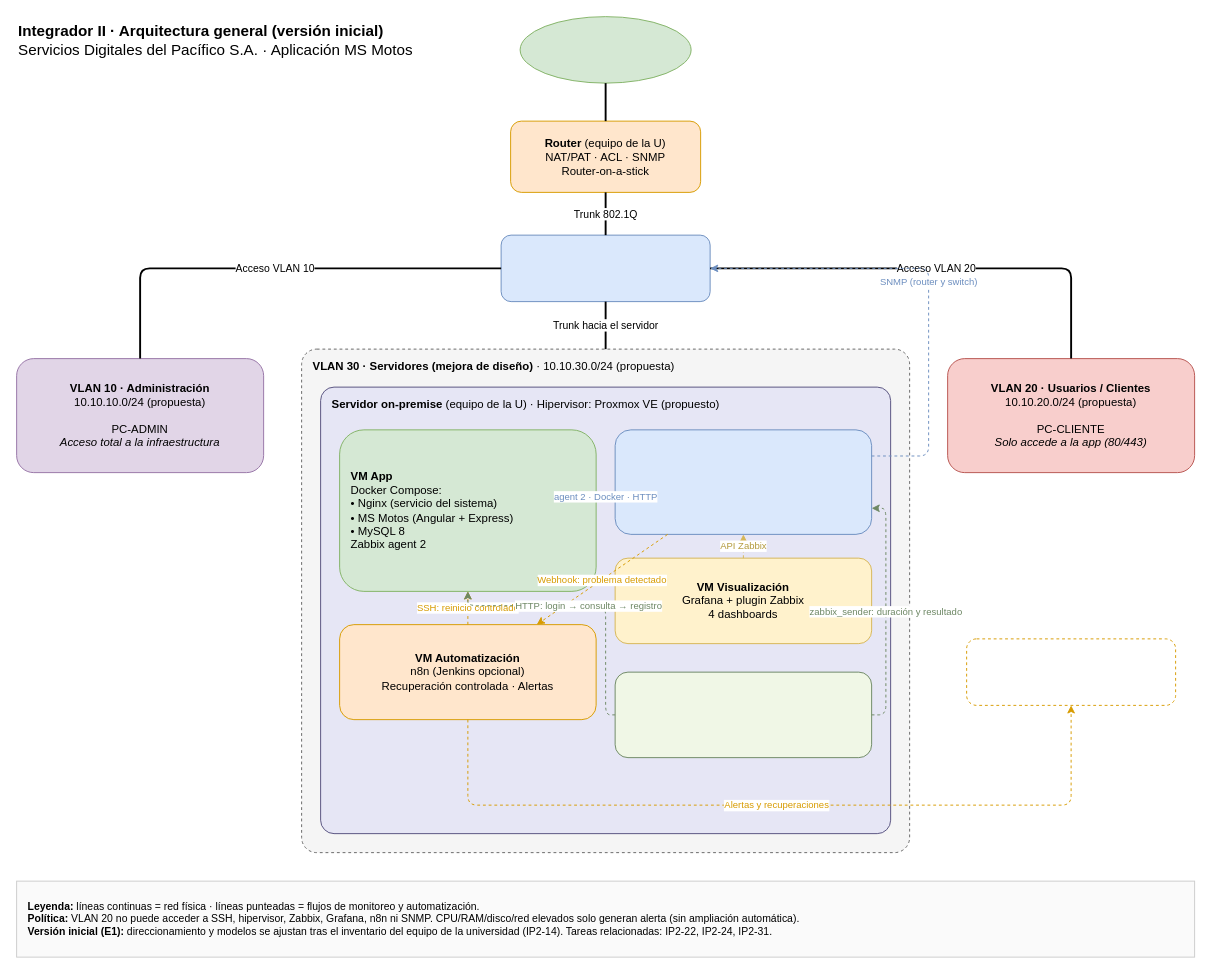
Image size: 1211x974. Some labels were removed from this diagram. The shapes that lost their labels are listed below. From the top down, each one's centre as x and y in pixels, then its label:
At (605,49): "Internet (red de la universidad)".
At (605,268): "Switch administrable (equipo de la U) VLAN · Trunk 802.1Q · SNMP".
At (743,481): "VM Monitoreo Zabbix Server + base de datos Agentes · SNMP · HTTP".
At (1071,671): "Telegram / Correo Notificaciones al equipo".
At (743,714): "VM RPA Robot Framework + Browser Usuario sintético".
